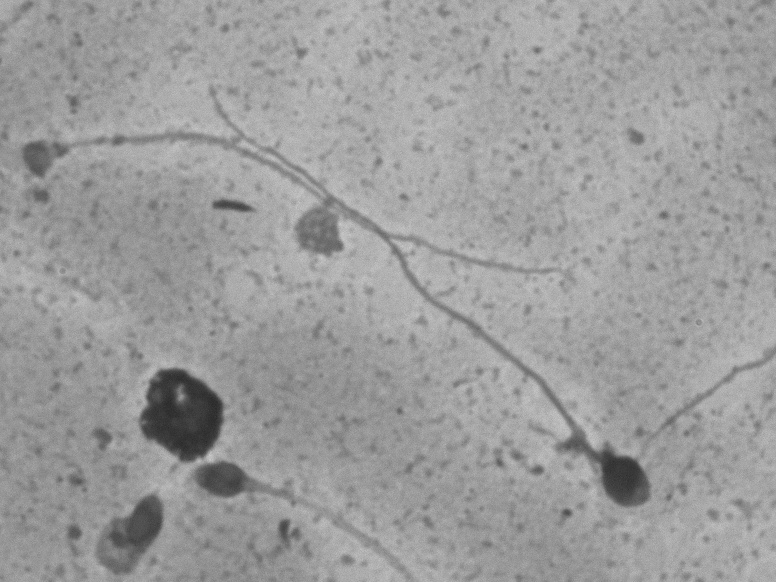Abnormal: (42, 467, 175, 571)
Normal: (191, 75, 670, 540)
